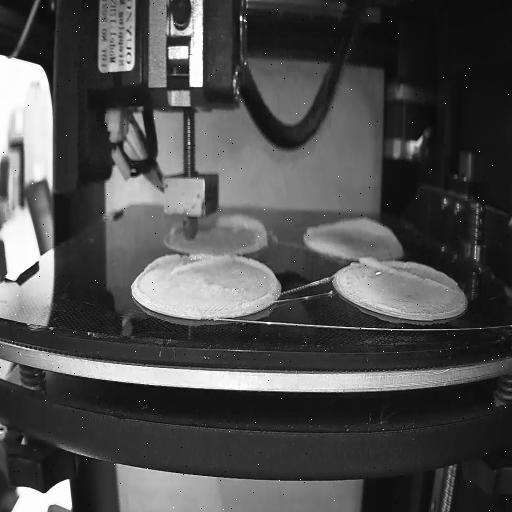over_extrusion: (358, 255, 450, 291), (304, 216, 400, 248), (234, 254, 278, 308), (144, 254, 230, 276), (216, 213, 270, 245)
